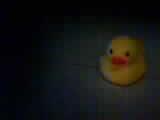duck: (102, 28, 148, 84)
